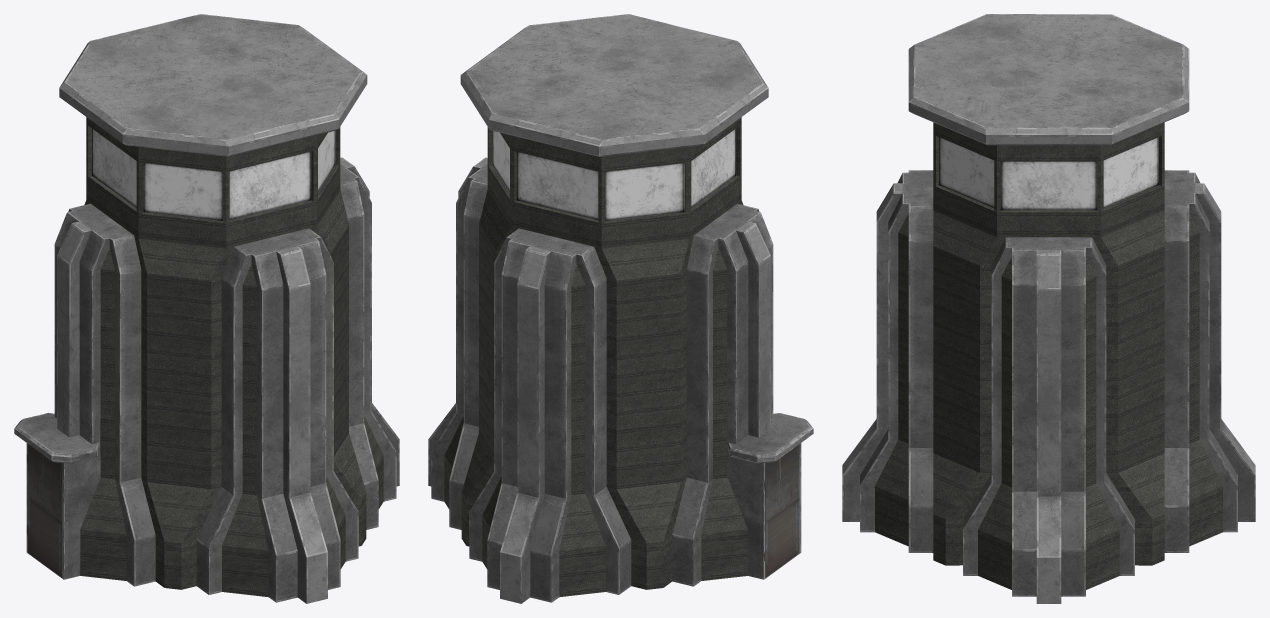
Rendered from scifi_perimeter_watchtower_standalone_or_with_wall_middle_four_way.glb.
3 renders of one model, left to right at view 1: azimuth 30°, elevation 25°; view 2: azimuth 150°, elevation 25°; view 3: azimuth 270°, elevation 25°, orthographic.
Visible parts, largest first — view 1: Cube.004; view 2: Cube.004; view 3: Cube.004.
Part boxes in pixels (x1=…): Cube.004: x1=14, y1=14, x2=399, y2=603; Cube.004: x1=428, y1=14, x2=813, y2=603; Cube.004: x1=842, y1=14, x2=1255, y2=603.
Bounding box in the file's own units: 8 × 9.5 × 7.99.
Materials: 1 (1 with a texture image).
